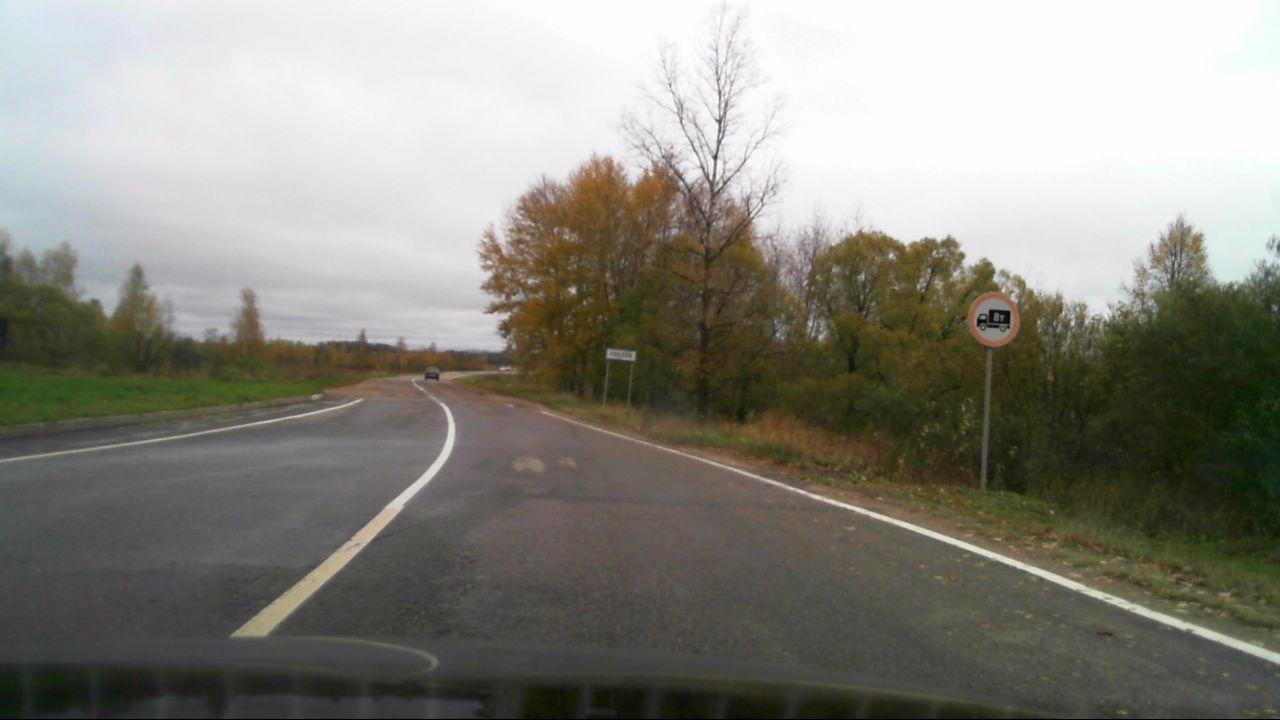3_4: (967, 292, 1022, 350)
